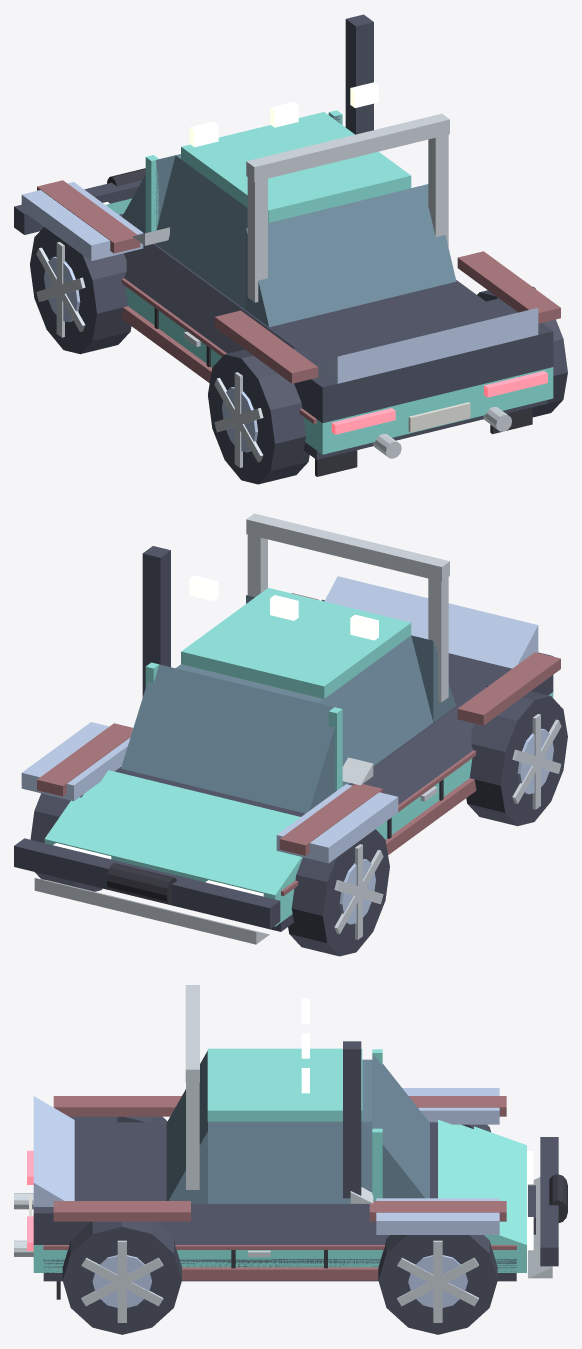
File: ridge_rover.glb
3 renders of one model, top to bottom at view 1: azimuth 30°, elevation 25°; view 2: azimuth 150°, elevation 25°; view 3: azimuth 270°, elevation 25°, orthographic. The views are drawn at different scales.
Visible parts, largest first — view 1: RearWindow.163, Tail.063, Roof.263, CabinSideL.060, Wheel_RL.223, Body.263, Wheel_FL.223, Ducktail.047, BodyUpper.060, ShoulderL.060, RollBar.056, Fender-1.056 (+26 smaller); view 2: Windshield.163, Nose.060, Roof.263, CabinSideL.060, Wheel_RL.223, Ducktail.047, BashBar.056, Wheel_FL.223, ShoulderL.060, RollBar.056, Snorkel.016, Fender-1.056 (+27 smaller); view 3: CabinSideR.060, Roof.263, ShoulderR.060, Wheel_RR.223, Nose.060, Wheel_FR.223, Windshield.163, Tail.063, Body.263, BodyUpper.060, Ducktail.047, RearWindow.163 (+25 smaller).
Boxes of the visible parts, left/top/right/bottom form: RearWindow.163: left=246, top=184, right=456, bottom=327; Tail.063: left=293, top=298, right=553, bottom=423; Roof.263: left=181, top=112, right=411, bottom=222; CabinSideL.060: left=155, top=155, right=247, bottom=309; Wheel_RL.223: left=208, top=349, right=309, bottom=484; Body.263: left=125, top=286, right=553, bottom=454; Wheel_FL.223: left=30, top=227, right=131, bottom=354; Ducktail.047: left=317, top=308, right=538, bottom=383; BodyUpper.060: left=119, top=213, right=485, bottom=347; ShoulderL.060: left=124, top=244, right=294, bottom=353; RollBar.056: left=246, top=113, right=449, bottom=181; Fender-1.056: left=21, top=182, right=143, bottom=260; Windshield.163: left=121, top=664, right=334, bottom=813; Nose.060: left=45, top=770, right=302, bottom=894; Roof.263: left=181, top=588, right=411, bottom=698; CabinSideL.060: left=319, top=635, right=433, bottom=785; Wheel_RL.223: left=466, top=691, right=567, bottom=826; Ducktail.047: left=324, top=576, right=538, bottom=668; BashBar.056: left=14, top=838, right=280, bottom=929; Wheel_FL.223: left=288, top=829, right=389, bottom=956; ShoulderL.060: left=350, top=686, right=486, bottom=804; RollBar.056: left=246, top=513, right=449, bottom=581; Snorkel.016: left=142, top=546, right=170, bottom=696; Fender-1.056: left=276, top=784, right=398, bottom=863; CabinSideR.060: left=208, top=1121, right=372, bottom=1203; Roof.263: left=207, top=1048, right=362, bottom=1121; ShoulderR.060: left=157, top=1204, right=389, bottom=1244; Wheel_RR.223: left=62, top=1221, right=181, bottom=1334; Nose.060: left=438, top=1119, right=526, bottom=1244; Wheel_FR.223: left=378, top=1235, right=497, bottom=1334; Windshield.163: left=372, top=1053, right=429, bottom=1198; Tail.063: left=33, top=1116, right=117, bottom=1244; Body.263: left=33, top=1245, right=526, bottom=1272; BodyUpper.060: left=117, top=1122, right=437, bottom=1204; Ducktail.047: left=33, top=1096, right=74, bottom=1206; RearWindow.163: left=166, top=1051, right=207, bottom=1203.
Size of the model in its own units: 3.06 by 2.9 by 5.39.
